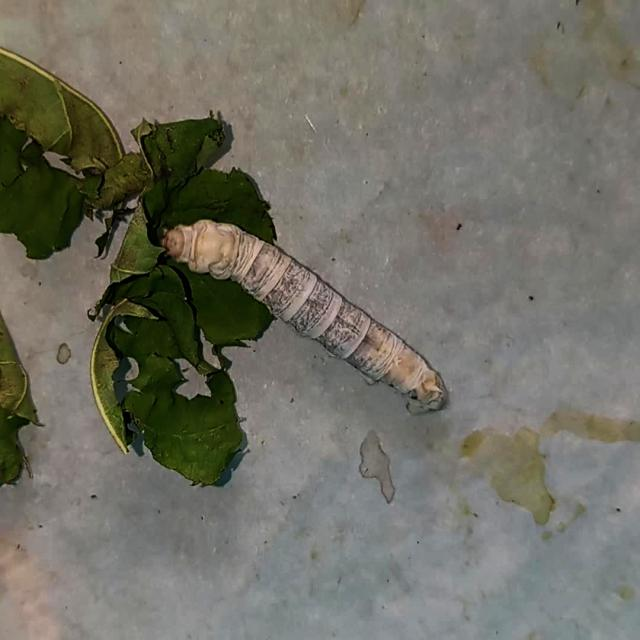Grasserie: (153, 194, 462, 430)
